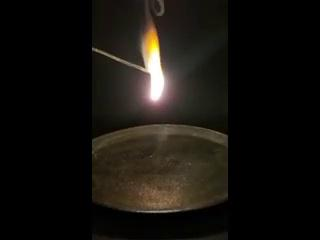Fire: (140, 5, 168, 102)
